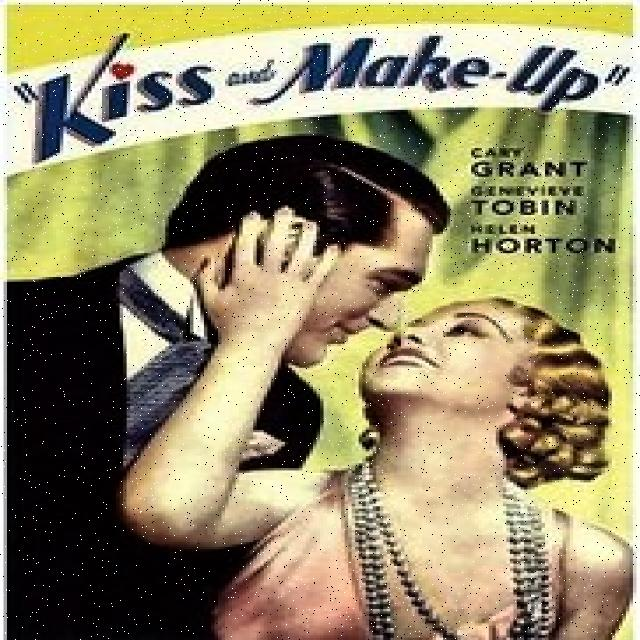movie-judul: (4, 30, 640, 162)
picture: (3, 137, 638, 640)
